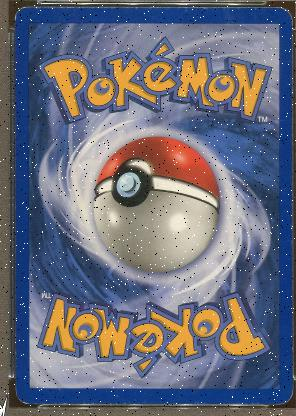Card: (13, 6, 293, 406)
Corner Wear: (15, 385, 35, 405), (273, 387, 292, 405), (275, 6, 292, 26), (12, 5, 28, 22)
Edge Wear: (27, 6, 212, 10), (80, 402, 258, 404), (218, 7, 259, 11), (15, 332, 17, 372)
Scratch: (285, 80, 292, 84)
